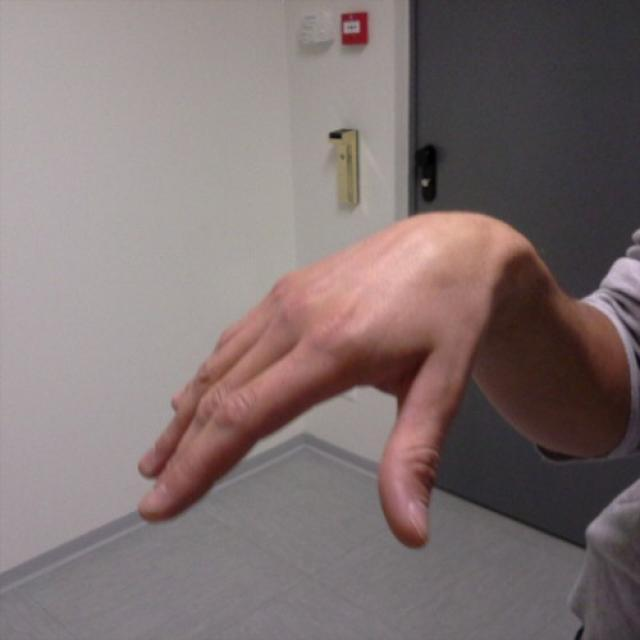paper: (137, 211, 435, 555)
